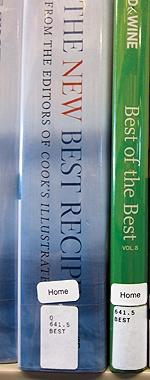call_number: (41, 304, 78, 370), (113, 306, 147, 369)
